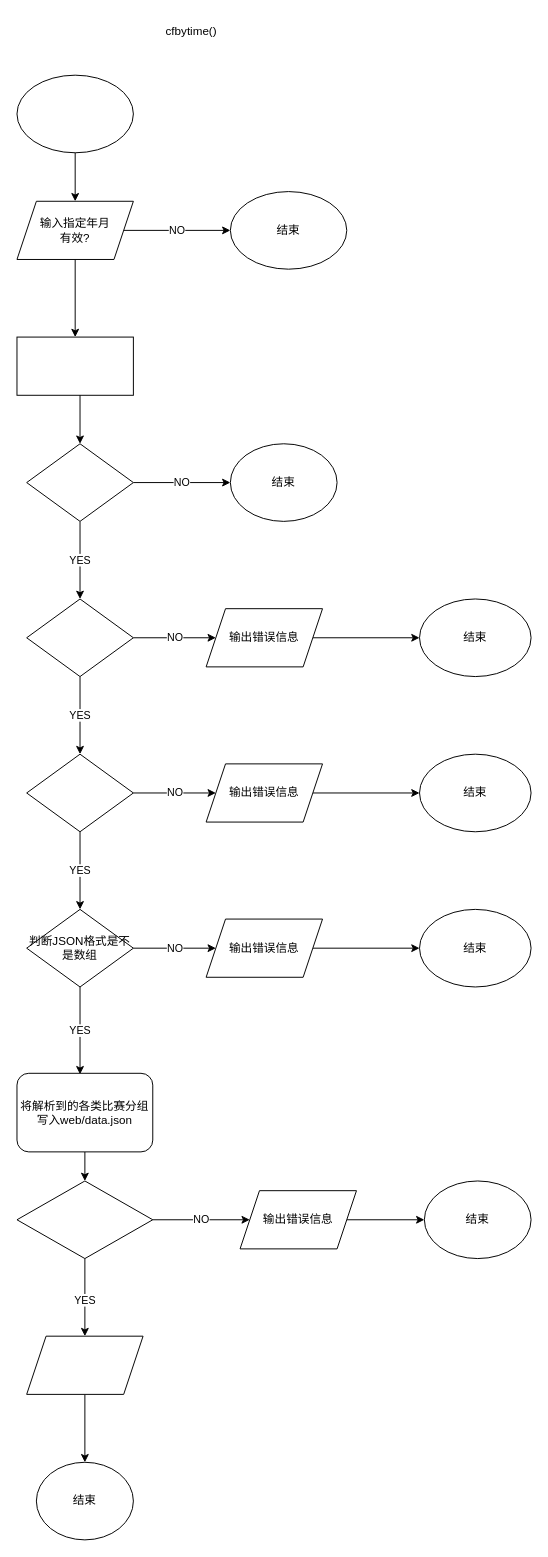
Image size: 548x1557. Some labels were removed from this diagram. Each missing label, with the centre of its shape:
"getcontests() 返回JSON字符串" belongs at (x=74, y=365).
"判断请求状态是否OK" belongs at (x=79, y=792).
"开始" belongs at (x=74, y=113).
"文件写入成功?" belongs at (x=84, y=1219).
"解析JSON字符串成功？" belongs at (x=79, y=637).
"输出成功信息" belongs at (x=84, y=1364).
"返回JSON字符串成功？" belongs at (x=79, y=482).
